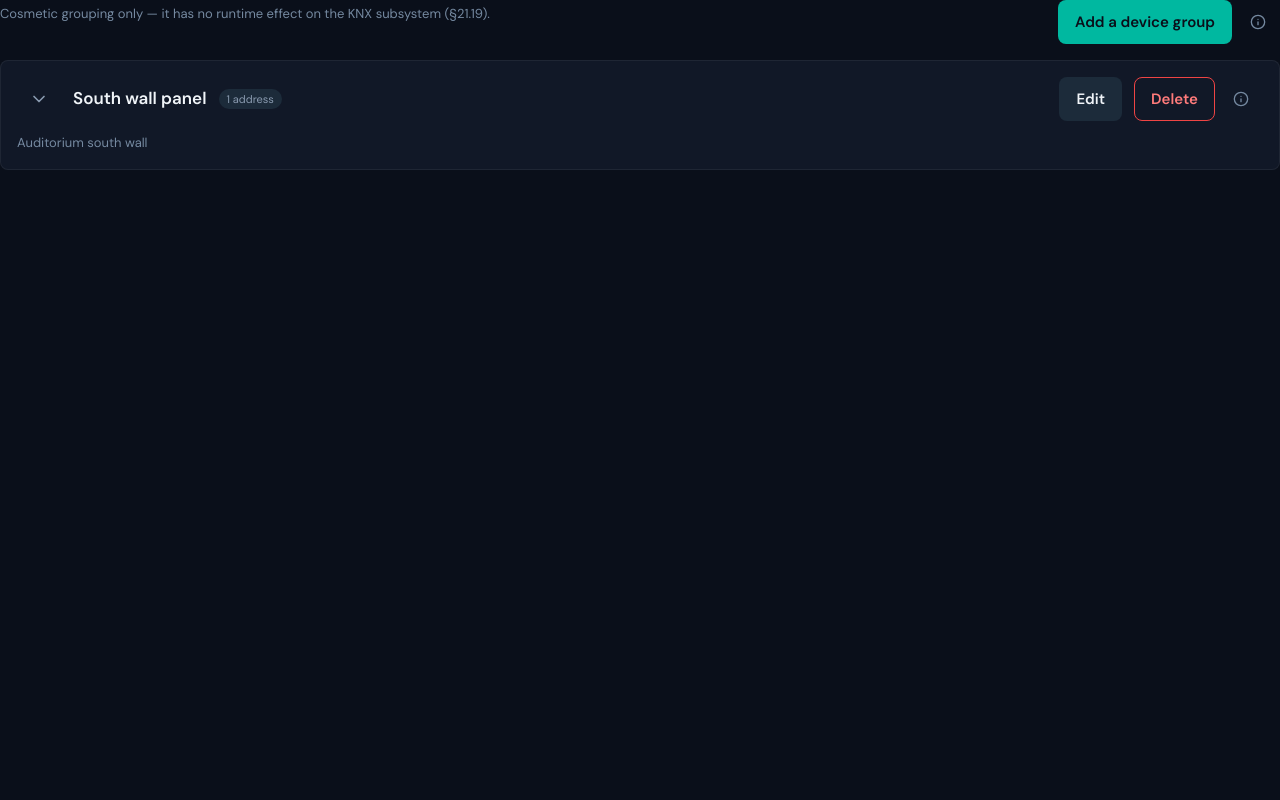
Scenario: DevicesTab delete protection › shows the assigned addresses when a delete is refused with 409 in_use
Click the button "Delete" at (1175, 99), box [1134, 77, 1215, 121]
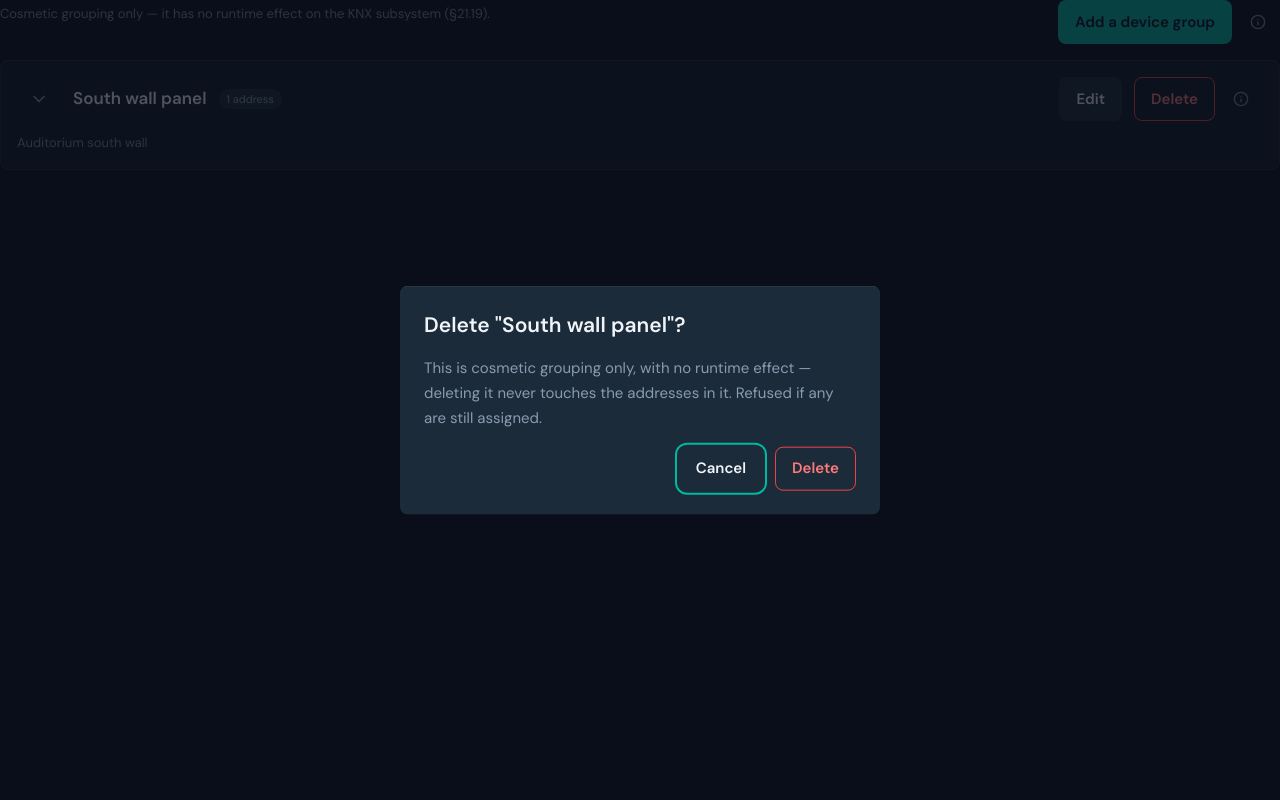
Click the button "Delete" at (816, 468), box [775, 446, 856, 490]
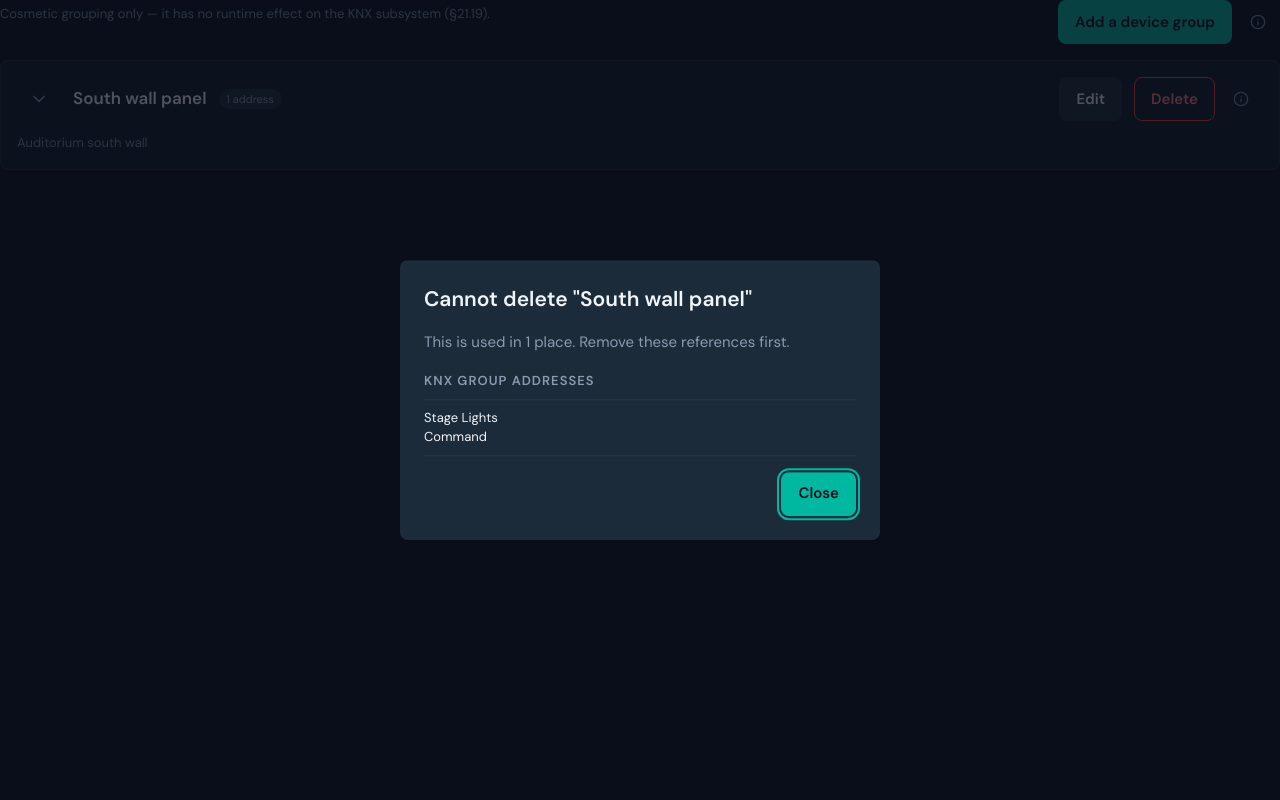
Expected: the text "Stage Lights Command" is shown, [424, 409, 498, 445]
